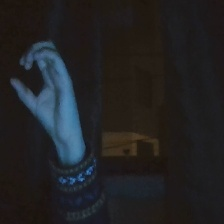C: (7, 38, 91, 146)
